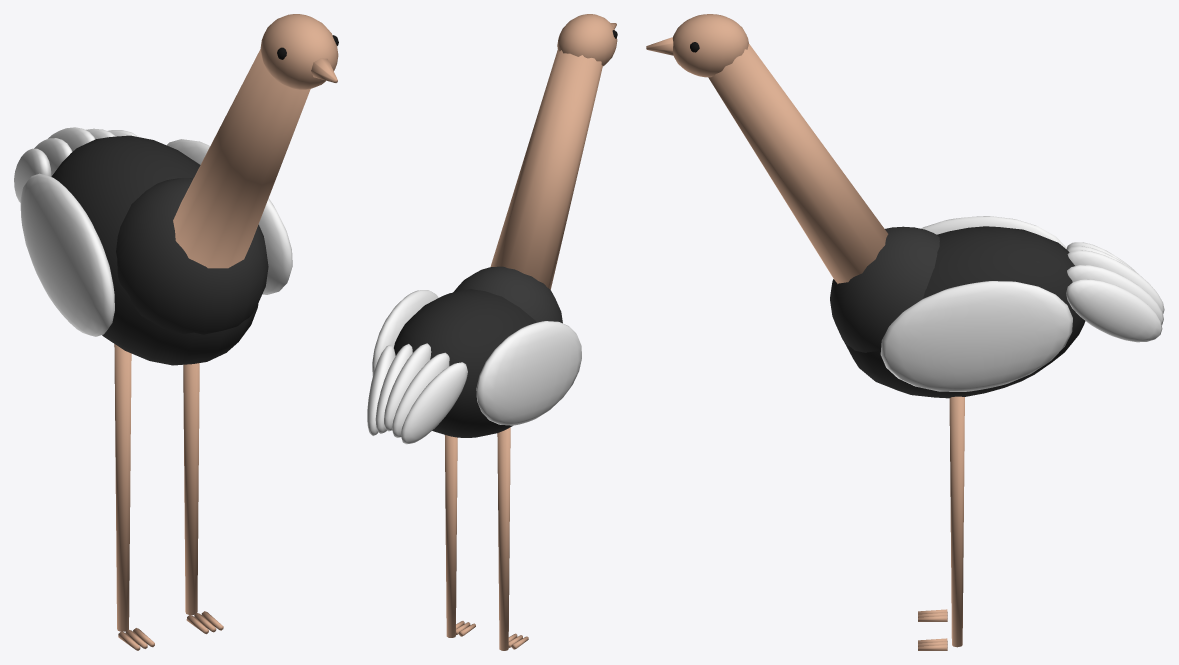
File: ostrich.glb
3 views of the same model, side by side, from view 1: azimuth 30°, elevation 25°; view 2: azimuth 150°, elevation 25°; view 3: azimuth 270°, elevation 25° (orthographic). The views are drawn at different scales.
Visible parts, largest first — view 1: ostrich; view 2: ostrich; view 3: ostrich.
Part boxes in pixels (<box>): ostrich: <box>14,14,338,650</box>; ostrich: <box>367,14,617,650</box>; ostrich: <box>646,14,1164,650</box>.
Size of the model in its own units: 1.05 by 3.61 by 2.75.
